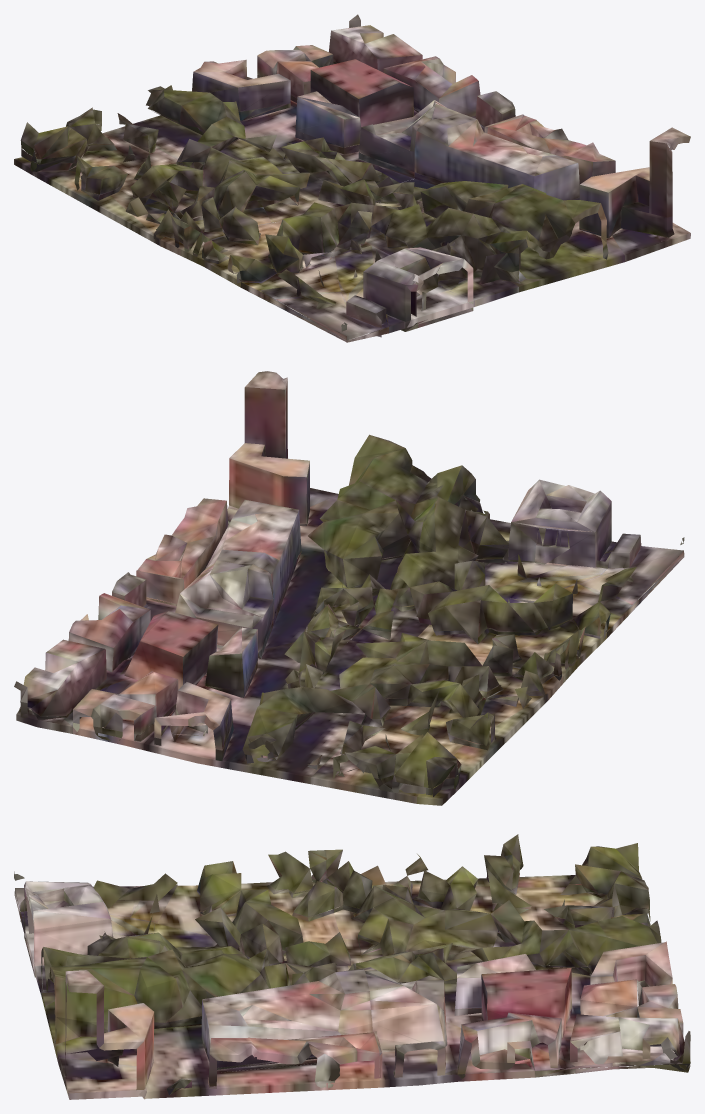
3 views of the same model, one above another, from view 1: azimuth 30°, elevation 25°; view 2: azimuth 150°, elevation 25°; view 3: azimuth 270°, elevation 25° (orthographic). The views are drawn at different scales.
Parts seen in each view (by area): view 1: Mesh_0; view 2: Mesh_0; view 3: Mesh_0.
Part boxes in pixels (bbox=[...]): Mesh_0: bbox=[14, 14, 690, 342]; Mesh_0: bbox=[14, 371, 684, 805]; Mesh_0: bbox=[14, 834, 690, 1099].
Bounding box in the file's own units: 266 × 79.57 × 330.
Materials: 1 (1 with a texture image).
